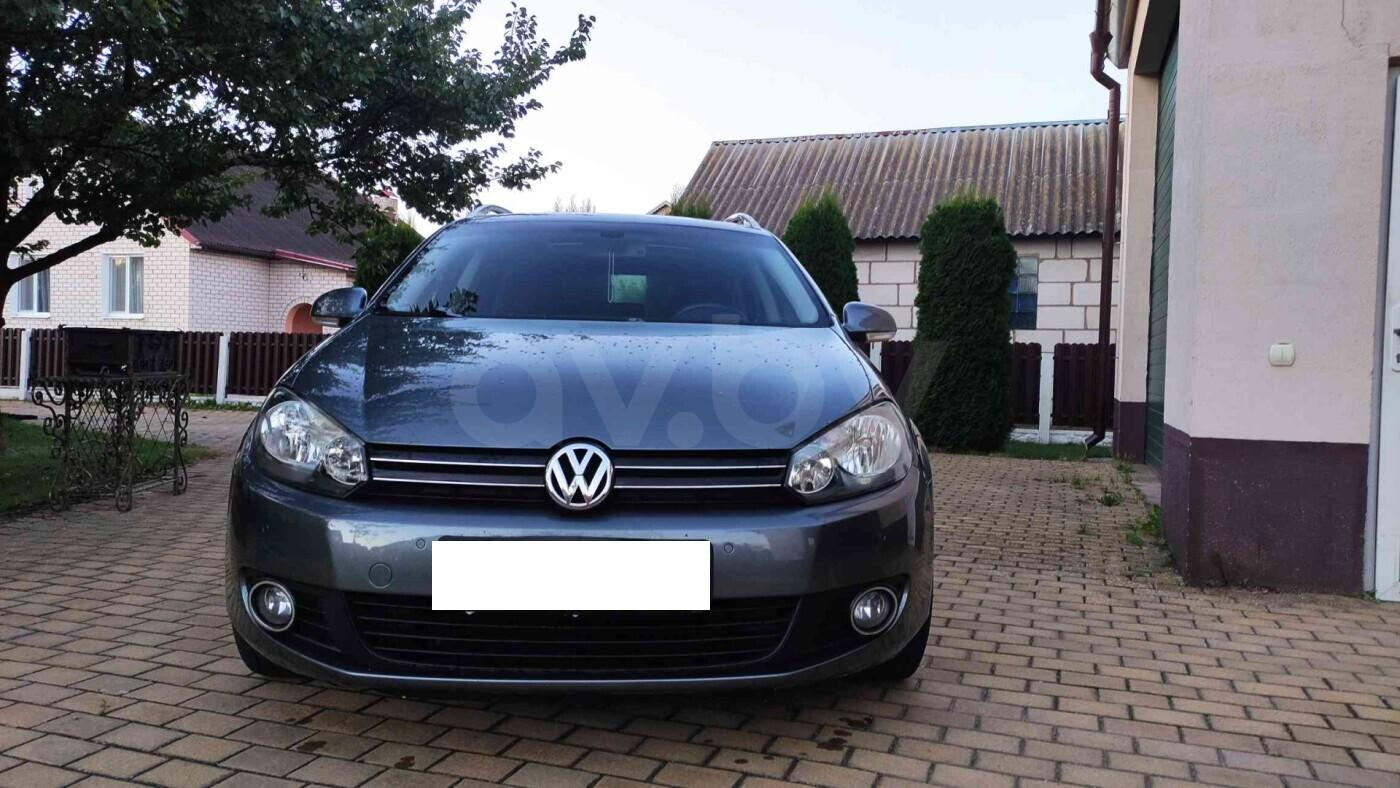Golf_2008-2013: (223, 207, 943, 718)
